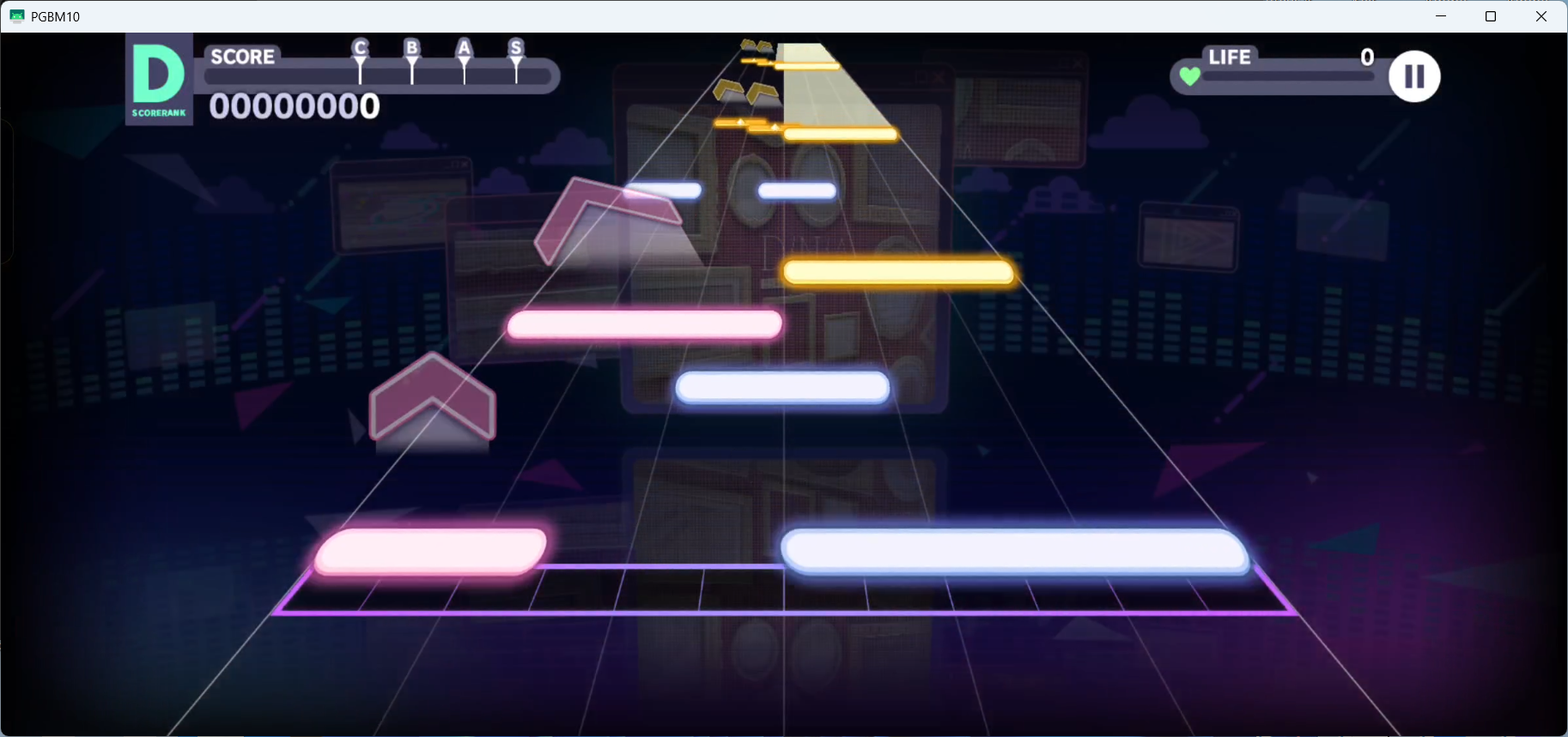flick: (535, 177, 707, 270), (368, 353, 493, 463), (745, 82, 782, 107), (712, 79, 745, 101), (739, 38, 757, 51), (757, 38, 773, 52)
hold: (783, 43, 892, 126), (784, 70, 892, 126), (775, 43, 836, 61), (783, 43, 836, 62)
sweep: (714, 118, 767, 126), (748, 124, 785, 131), (741, 56, 766, 63), (757, 60, 775, 65)
tap: (781, 529, 1250, 577), (312, 529, 548, 577), (507, 308, 781, 342), (676, 371, 890, 407), (777, 259, 1017, 286), (621, 181, 701, 200), (758, 183, 836, 201), (784, 128, 896, 140), (775, 63, 840, 69)
